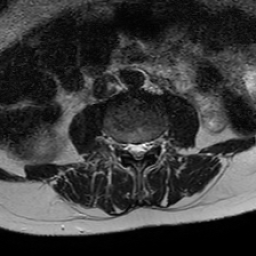CCS_normal: (134, 134, 142, 169)
LFS_normal: (150, 129, 158, 154)
LLS_normal: (142, 132, 150, 160)
RFS_normal: (118, 133, 126, 157)
RLS_normal: (126, 134, 134, 160)
